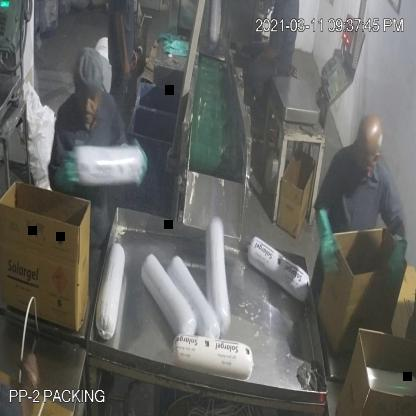glove: (314, 200, 344, 286), (384, 227, 411, 291)
no_glove: (114, 1, 130, 82)
